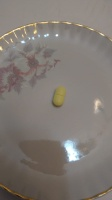Aferin: (52, 85, 67, 108)
